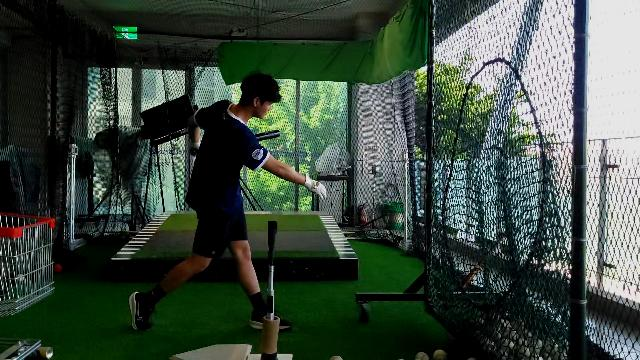baseball bat: (256, 128, 282, 140)
